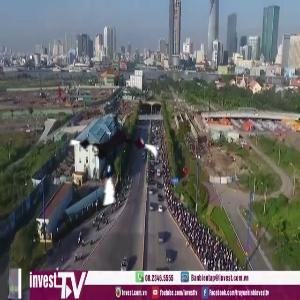drone: (63, 109, 163, 209)
